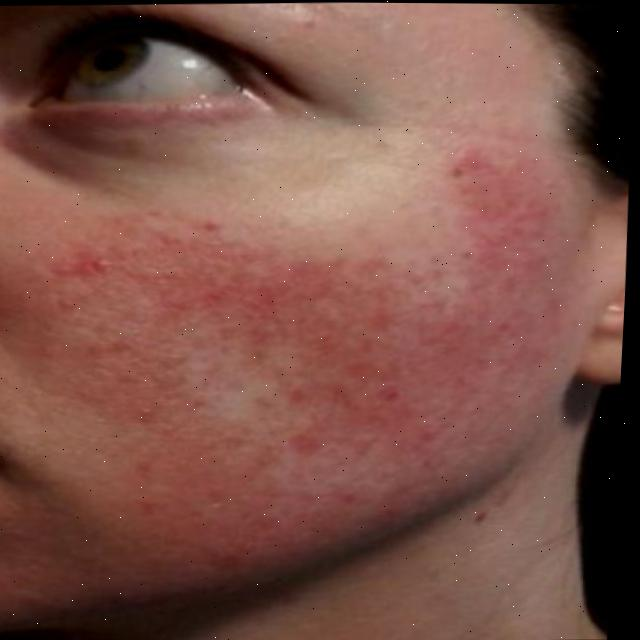Rosacea: (38, 143, 556, 508)
